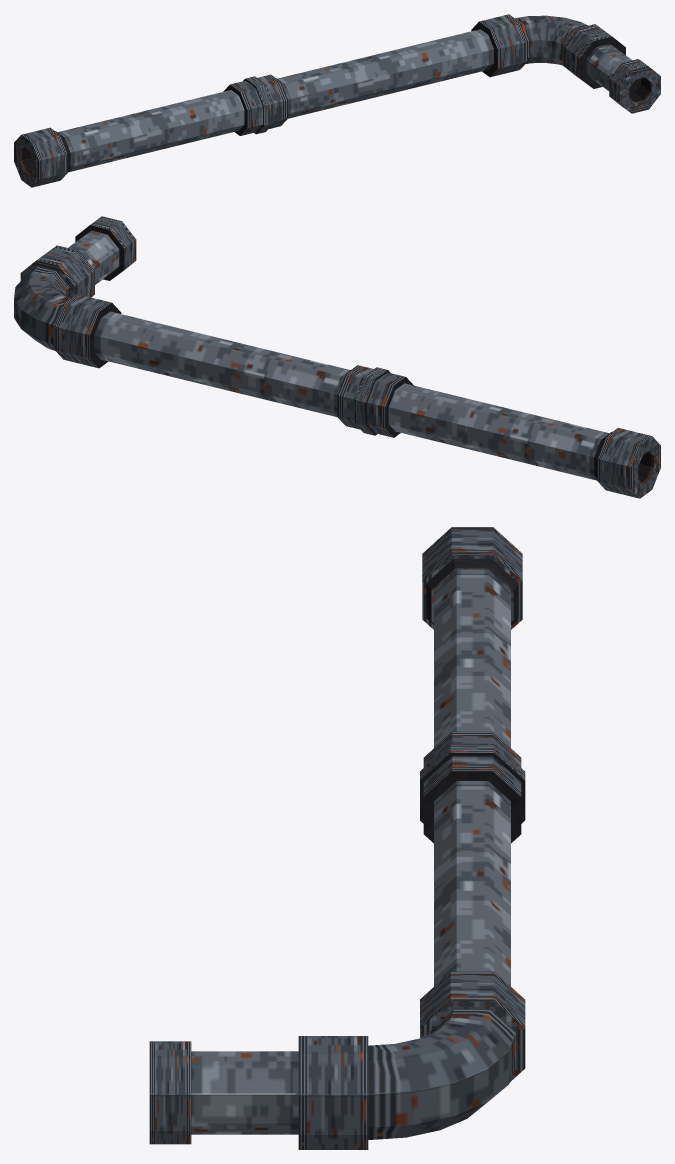
File: Weapon_Pipe.fbx
The picture shows the model from 3 angles, top to bottom: view 1: azimuth 30°, elevation 25°; view 2: azimuth 150°, elevation 25°; view 3: azimuth 270°, elevation 25°; orthographic projection. The views are drawn at different scales.
Visible parts, largest first — view 1: Weapon_Pipe; view 2: Weapon_Pipe; view 3: Weapon_Pipe.
Part boxes in pixels (x1,y1,x2,y2): Weapon_Pipe: [14, 14, 660, 187]; Weapon_Pipe: [14, 216, 660, 498]; Weapon_Pipe: [149, 527, 525, 1149].
Bounding box in the file's own units: 92.29 × 7.58 × 26.99.
